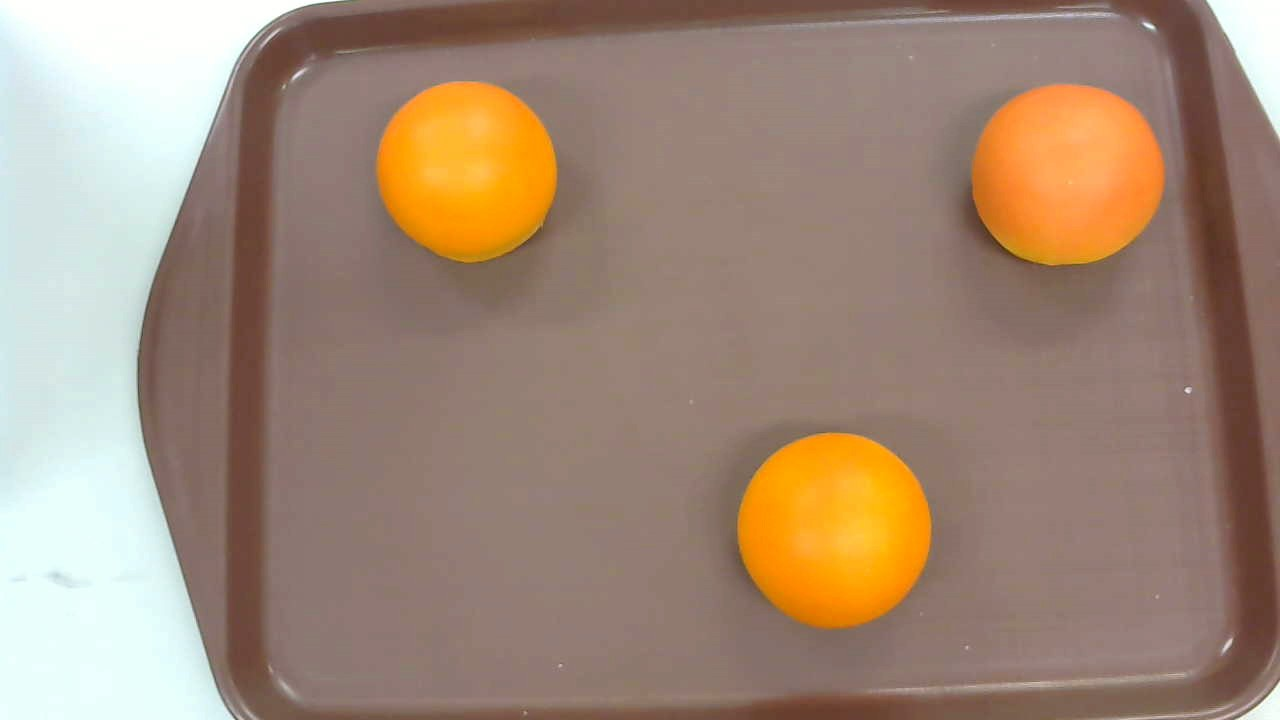bun: (735, 430, 932, 631), (969, 84, 1164, 266), (376, 81, 558, 266)
